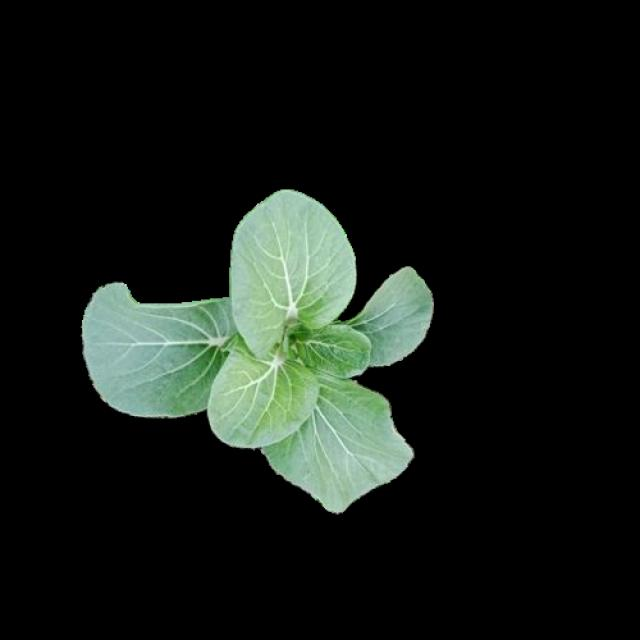healthy: (79, 188, 430, 510)
not-mature: (82, 191, 433, 512)
